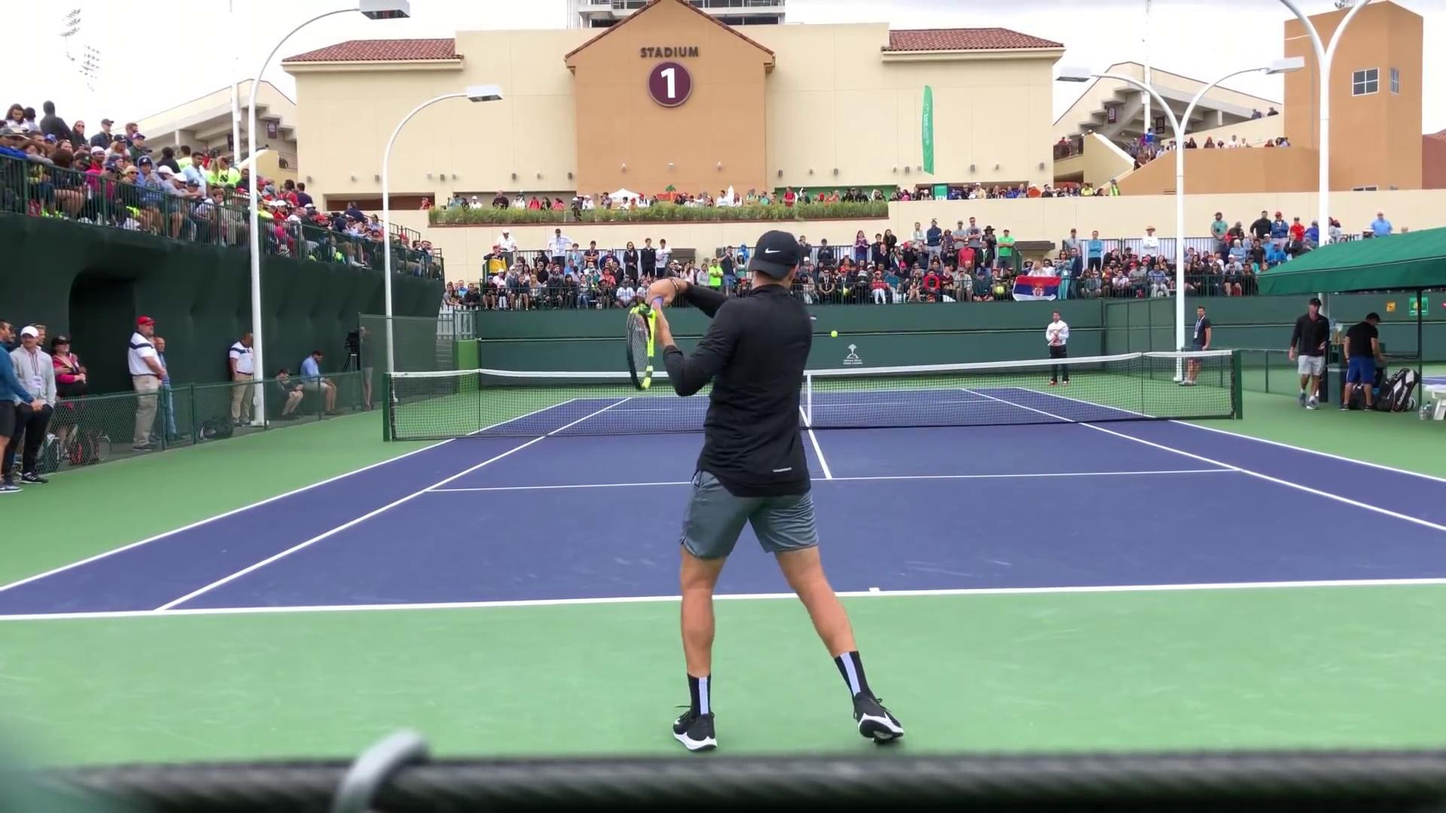ball: (828, 330, 839, 338)
